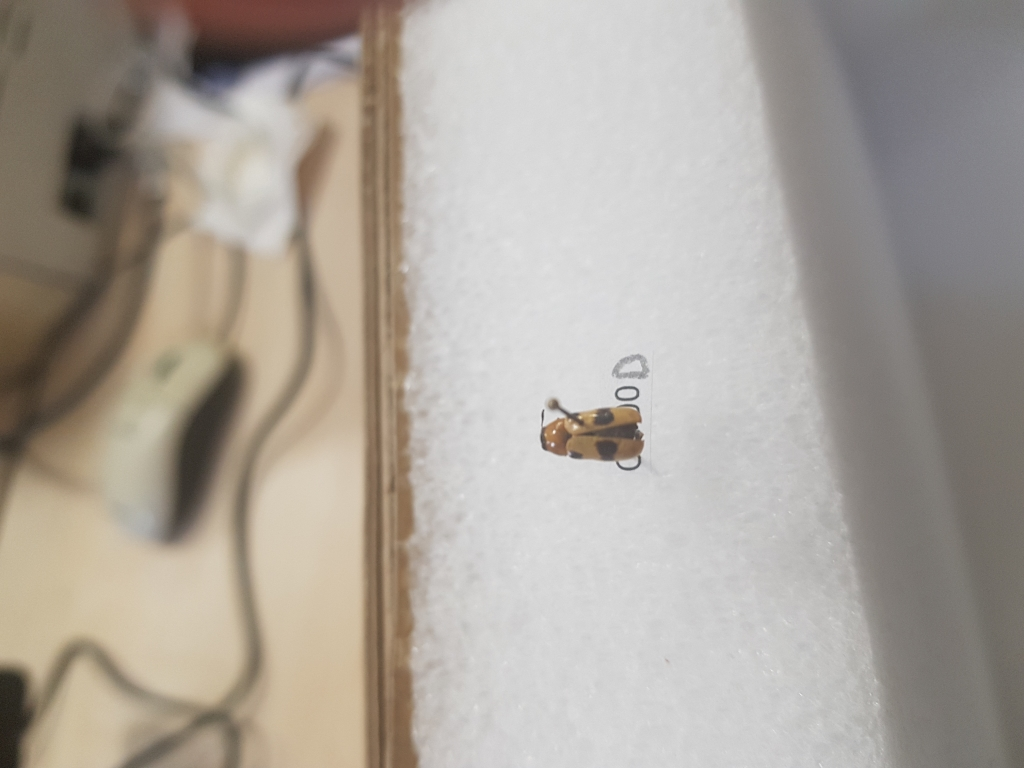Tituboea_macropus: (535, 401, 644, 462)
